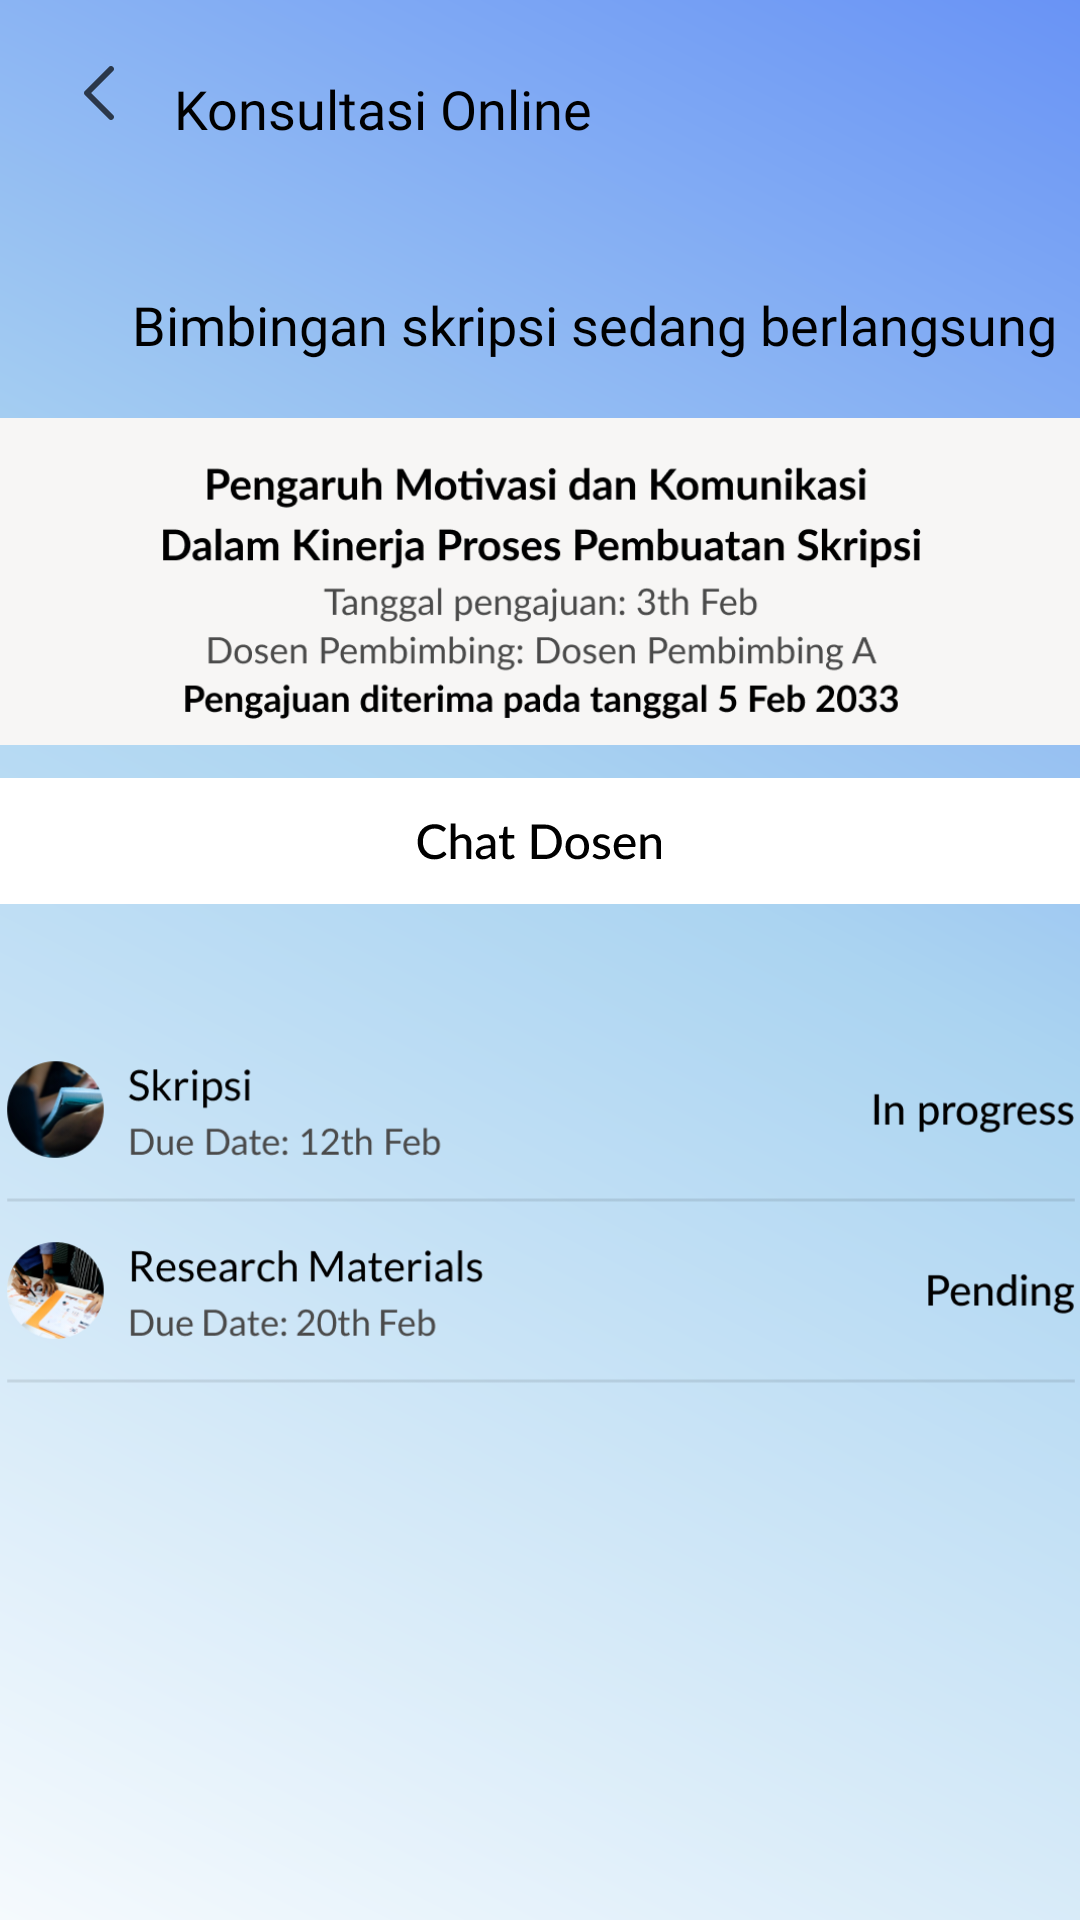

Locate icon controls on the screen. Image size 1080x1920, boxes as (x1=x1, y1=y1, x2=x2, y2=y2).
arrowkiri: (x1=84, y1=66, x2=114, y2=120)
